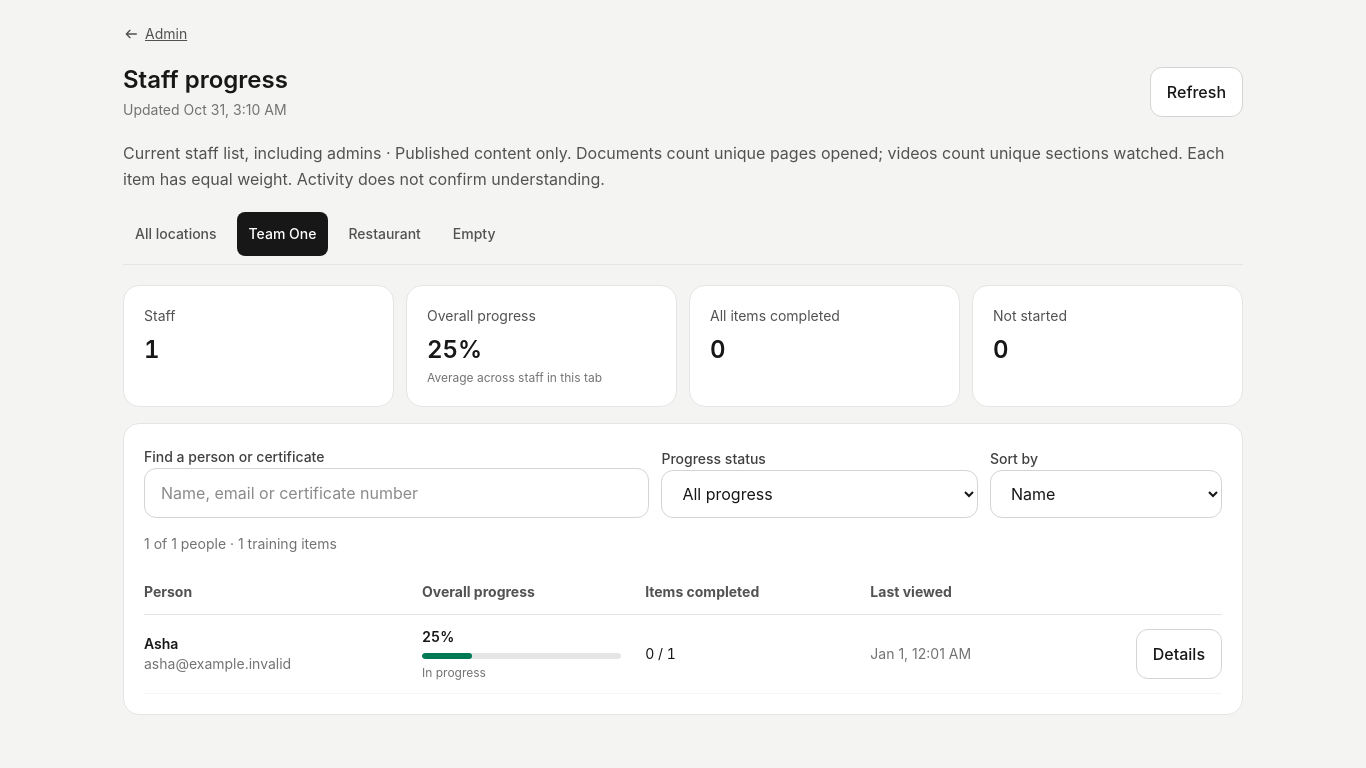
Test: location tabs scope counts, progress and filters while sharing a person’s history
This screenshot has width=1366, height=768.
Expected: the text "1 of 1 people · 1 training items" is shown, [144,535,337,552]
Expected: the text "Ben" is not shown
Type "no match" into the search field labelled "Find a person or certificate" at x=397, y=493, box [144,468,649,518]
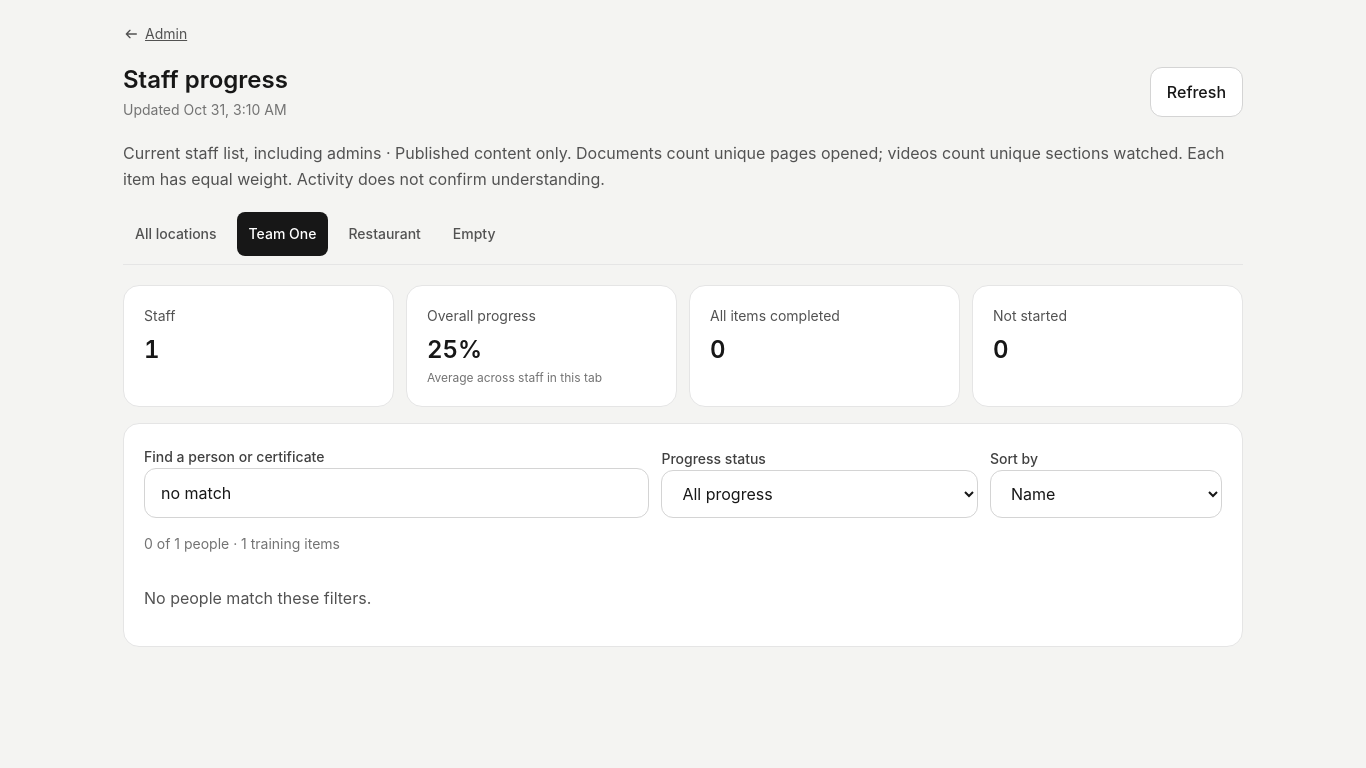
Press ArrowRight in the tab "Team One", box [237,212,328,256]
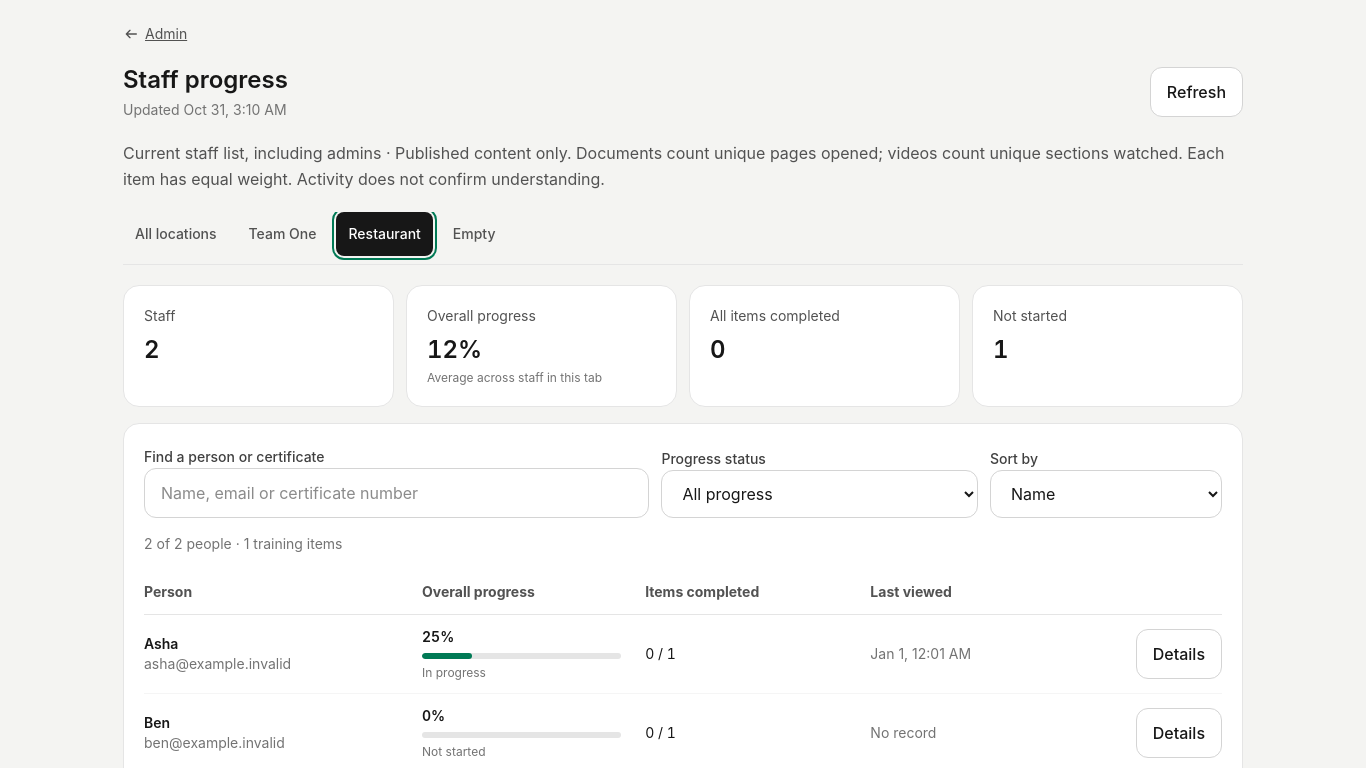
Now the text "2 of 2 people · 1 training items" is shown, box [144,535,342,552]
Now the text "12%" is shown, box [427,335,482,364]
Click the button with aria-label "View progress for Asha" at x=1179, y=654, box [1136,629,1222,679]
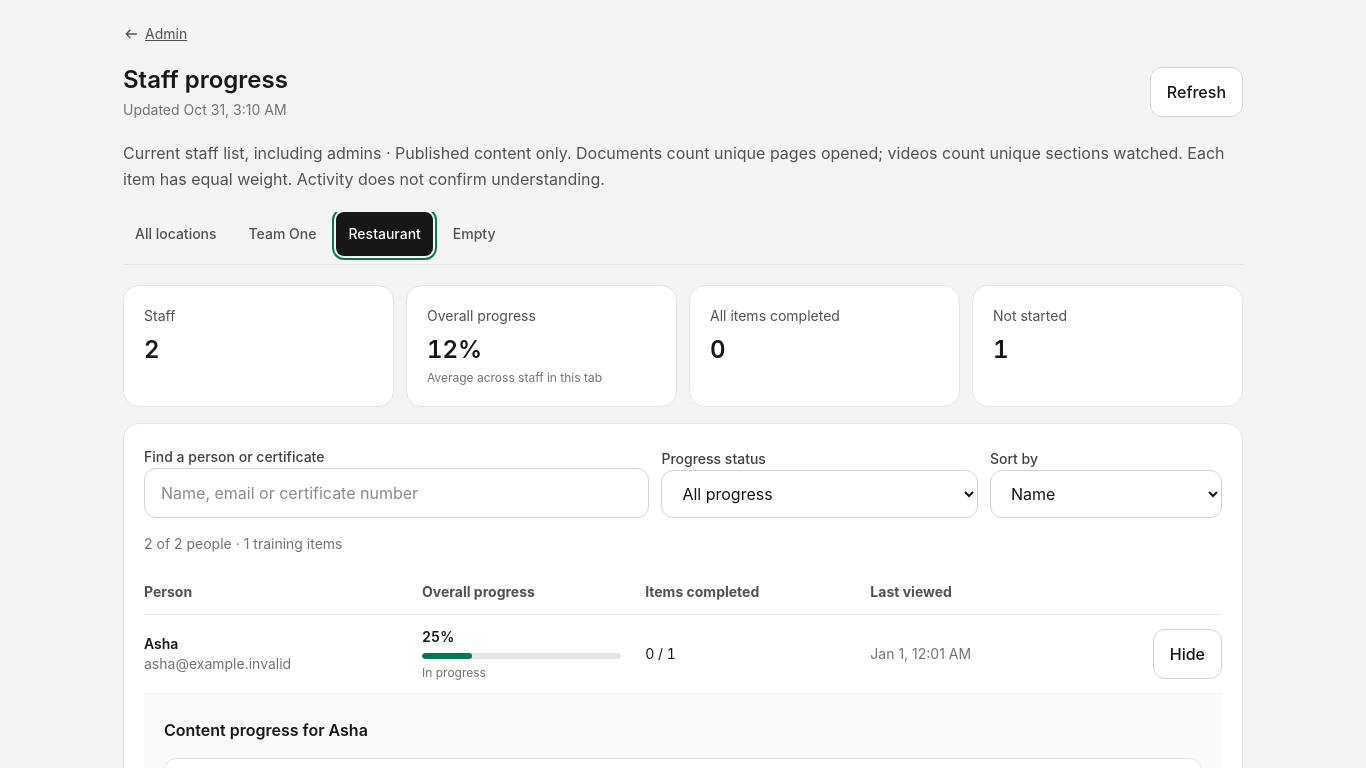
Expected: the text "Spreadsheet row 16" is not shown
Press End in the tab "Restaurant", box [336,212,433,256]
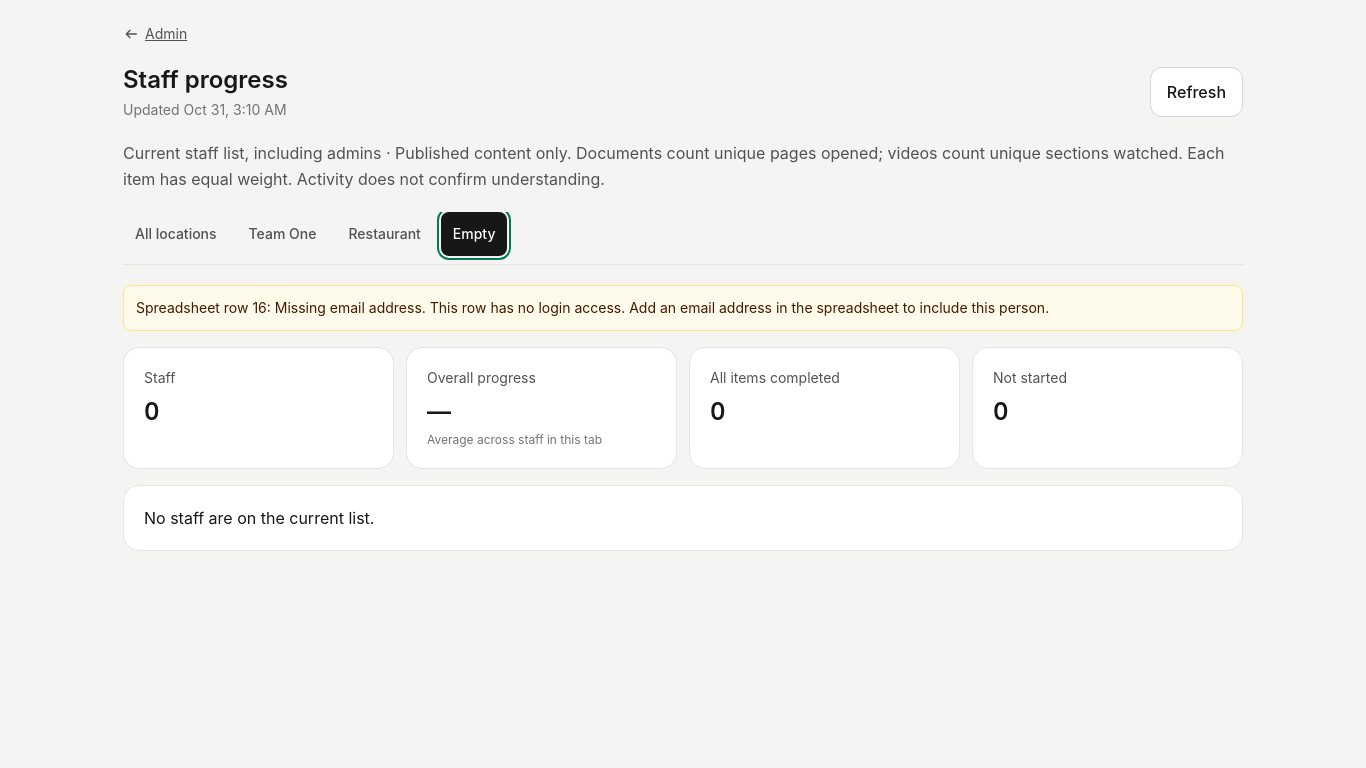
Now the text "Spreadsheet row 16: Missing email address" is shown, box [123,285,1243,331]
Now the heading "Content progress for Asha" is gone
Press Home in the tab "Empty", box [441,212,507,256]
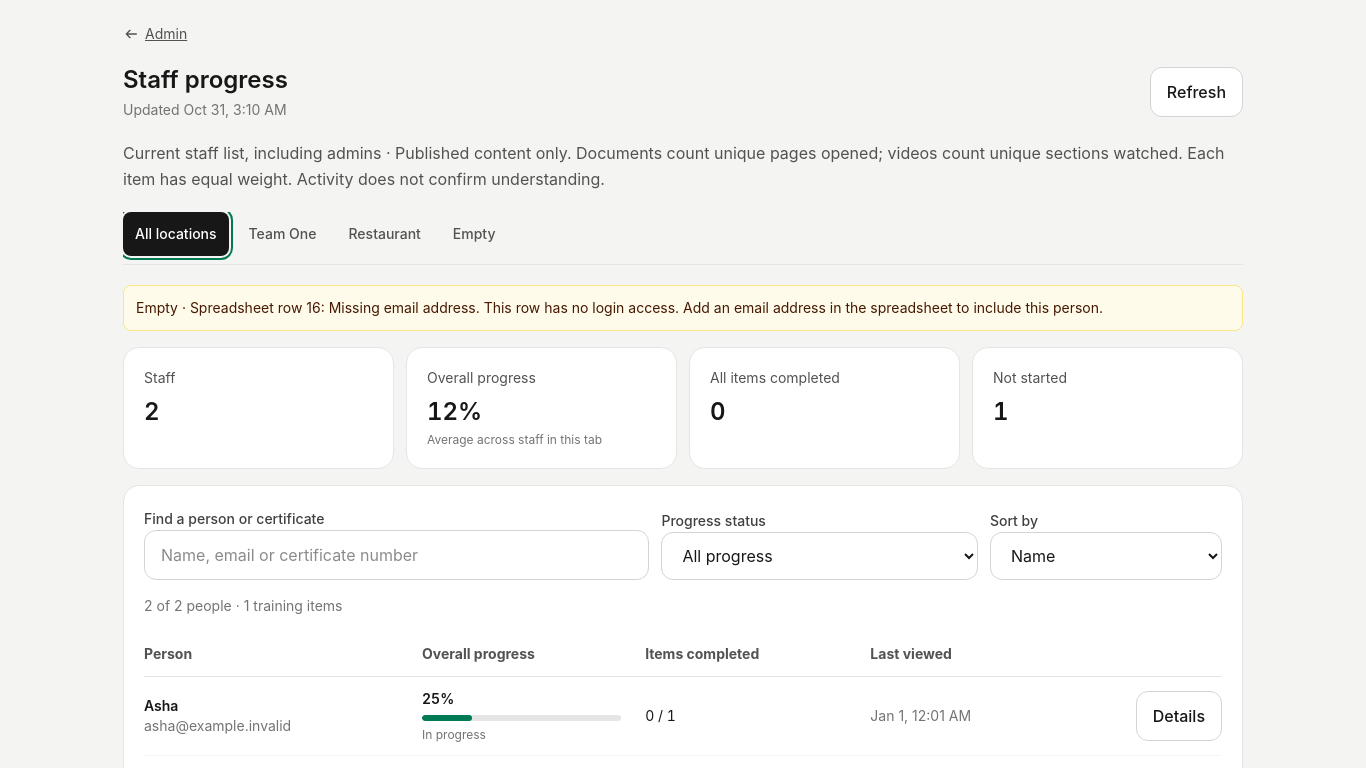
Now the text "2 of 2 people · 1 training items" is shown, box [144,597,342,614]
